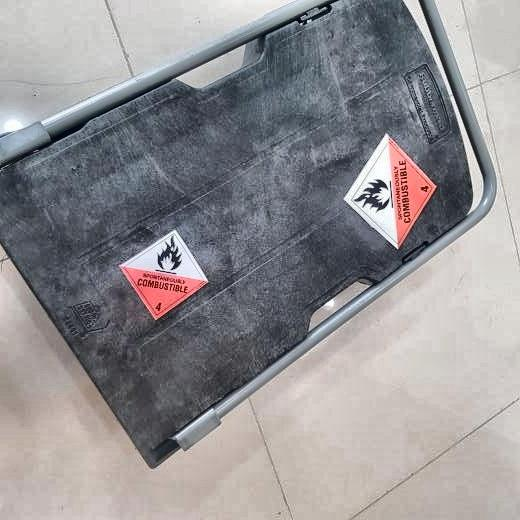spontaneously-combustible: (336, 134, 440, 250), (118, 228, 210, 319)
